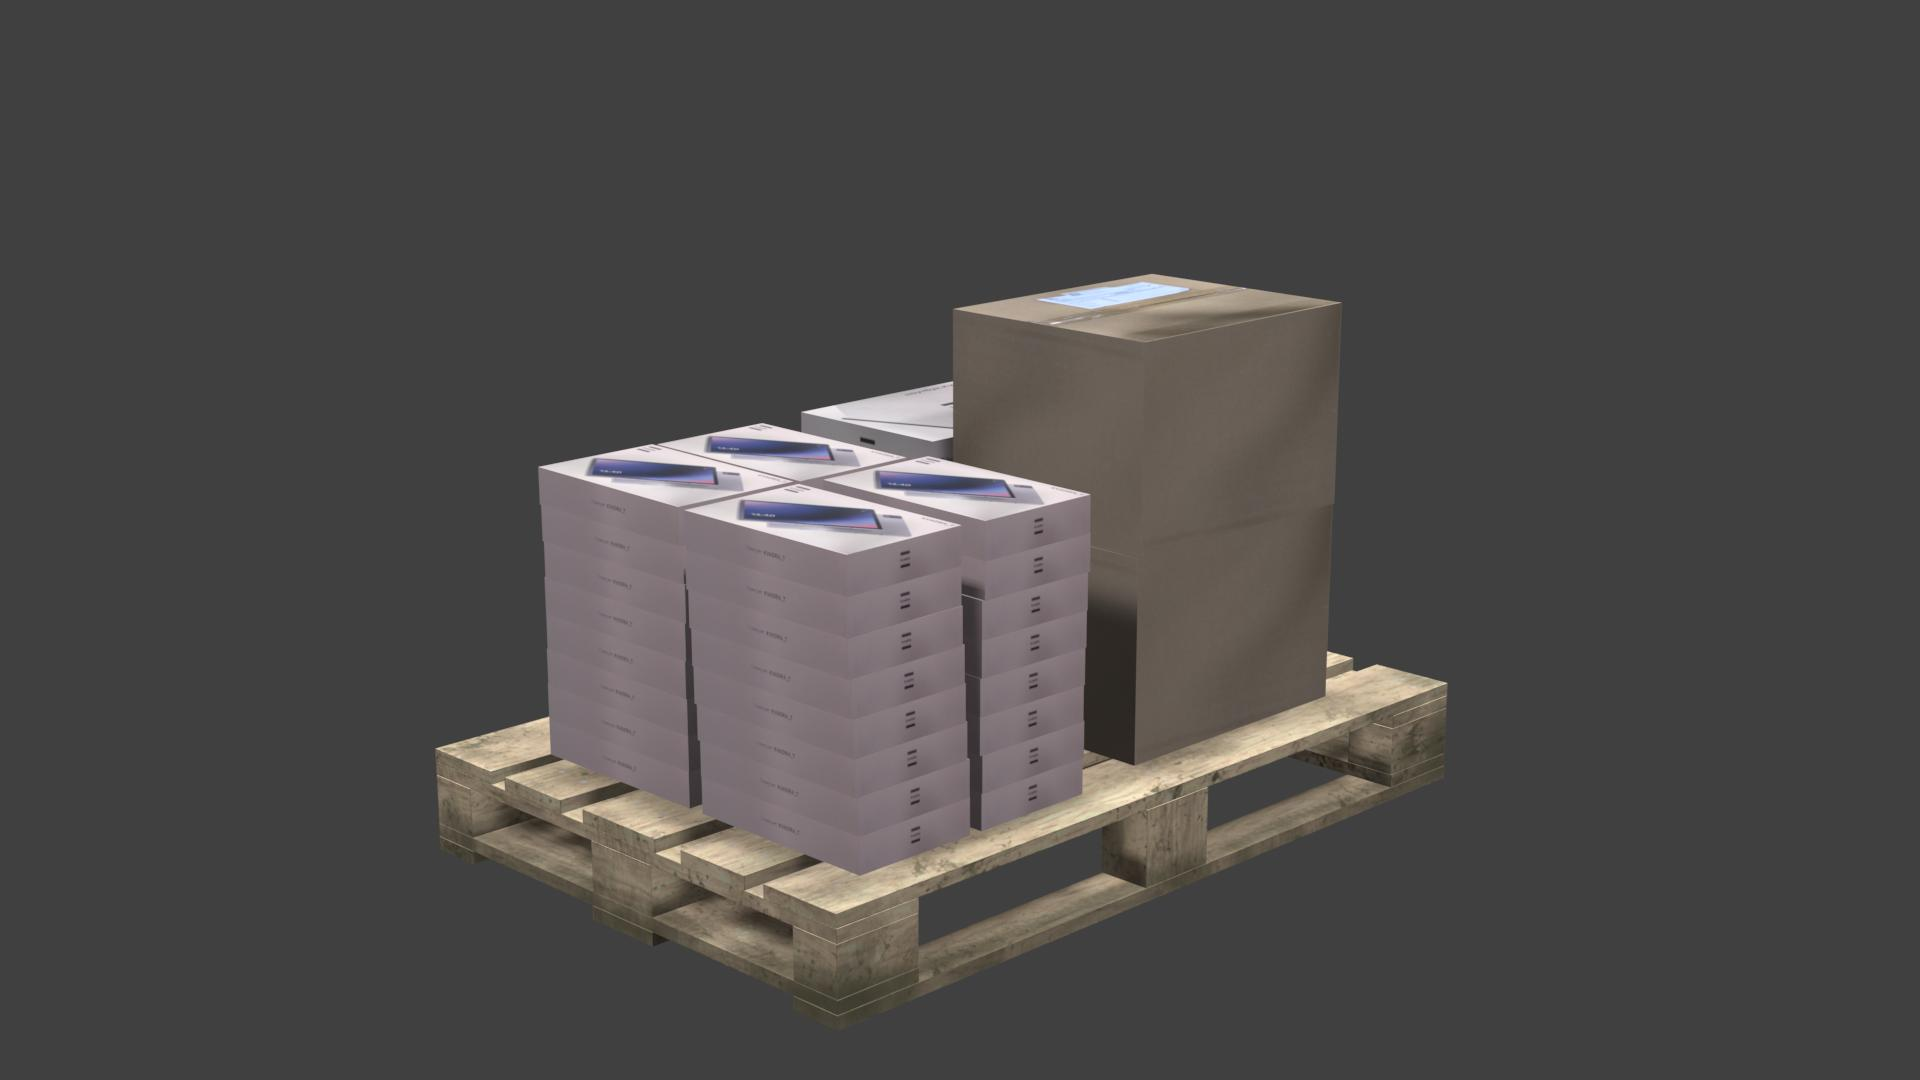group_box_left: (953, 303, 1341, 556), (1085, 504, 1333, 766)
group_box_top: (957, 273, 1344, 342)
laptop_left: (802, 413, 952, 462)
laptop_top: (803, 378, 953, 443)
palet: (435, 650, 1445, 1033)
tablet_left: (703, 778, 971, 876), (700, 744, 969, 837), (698, 705, 967, 798), (694, 669, 965, 758), (688, 591, 963, 679), (692, 630, 965, 719), (686, 553, 961, 638), (686, 512, 961, 596), (545, 576, 687, 662), (550, 723, 691, 808), (549, 686, 687, 770), (547, 616, 688, 698), (549, 651, 688, 732), (542, 506, 684, 583), (545, 545, 684, 621), (539, 468, 678, 545), (961, 533, 1091, 601), (971, 721, 1084, 795), (961, 497, 1091, 562), (964, 574, 1088, 641), (971, 760, 1083, 832), (964, 613, 1087, 679), (968, 686, 1083, 756), (967, 649, 1085, 716)
tablet_top: (687, 484, 959, 555), (828, 456, 1089, 521), (539, 443, 789, 510), (663, 422, 901, 483)
